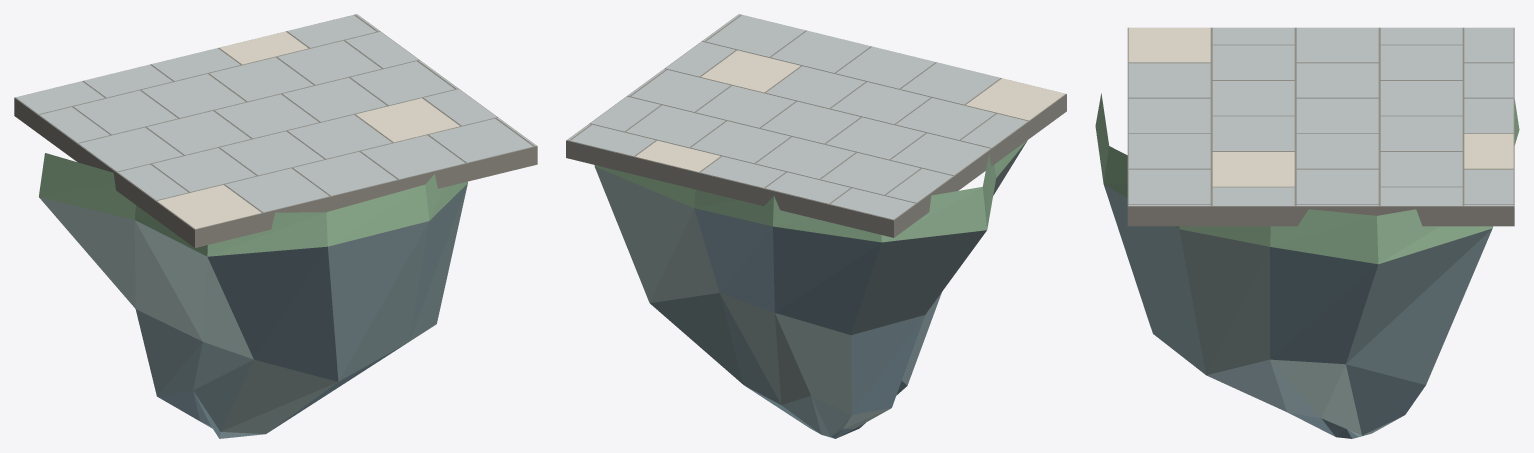
Rendered from FloatingIsland09.glb.
3 views of the same model, side by side, from view 1: azimuth 30°, elevation 25°; view 2: azimuth 150°, elevation 25°; view 3: azimuth 270°, elevation 25° (orthographic). The views are drawn at different scales.
Visible parts, largest first — view 1: FloatingIsland09; view 2: FloatingIsland09; view 3: FloatingIsland09.
Part boxes in pixels (left/top/right/bottom): FloatingIsland09: left=14, top=14, right=537, bottom=438; FloatingIsland09: left=566, top=14, right=1066, bottom=438; FloatingIsland09: left=1095, top=27, right=1519, bottom=438.
Bounding box in the file's own units: 6.14 × 4.69 × 5.31.
